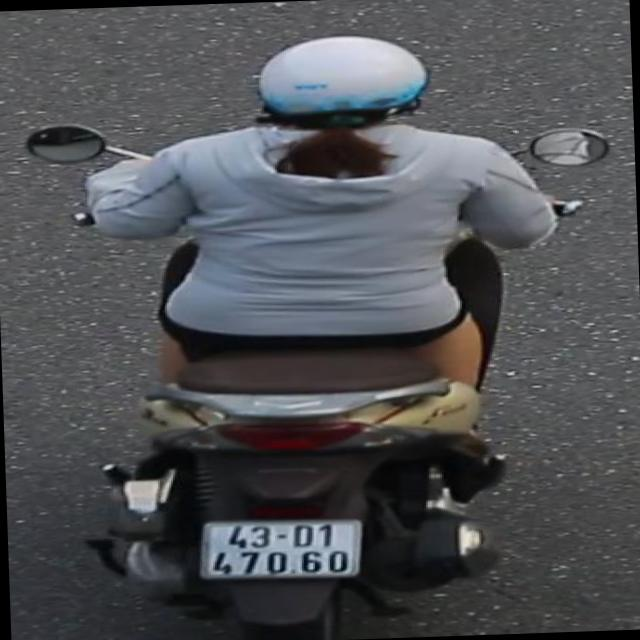LP: (192, 511, 372, 589)
helmet: (246, 26, 437, 140)
